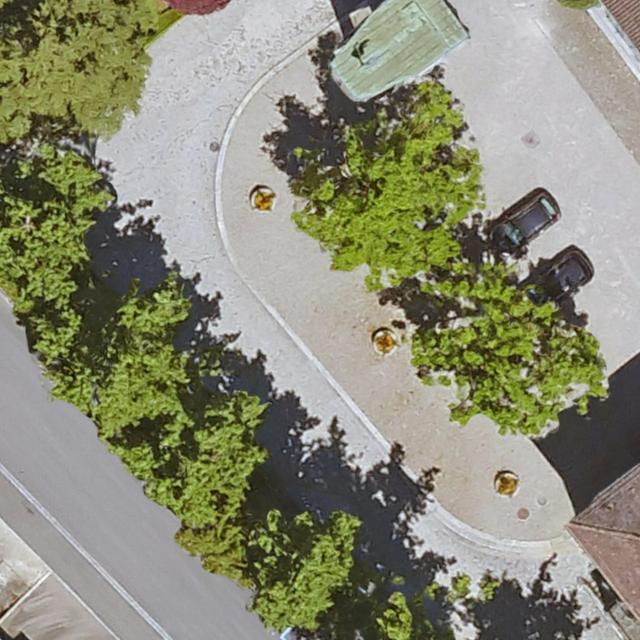tree: (296, 95, 469, 283), (412, 277, 599, 433), (138, 396, 269, 521), (250, 510, 360, 635), (1, 0, 154, 85), (91, 298, 181, 438), (0, 174, 88, 294), (373, 587, 456, 640)
